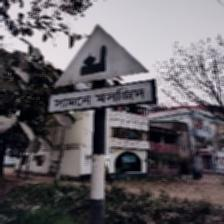Mosque in front: (50, 23, 154, 112)
